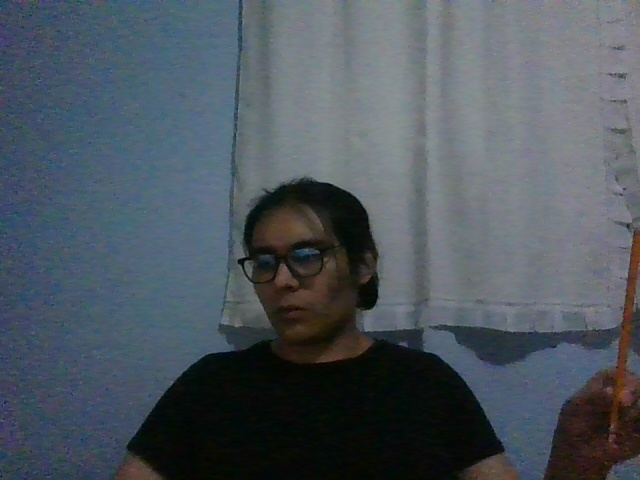lapiz: (607, 227, 640, 446)
